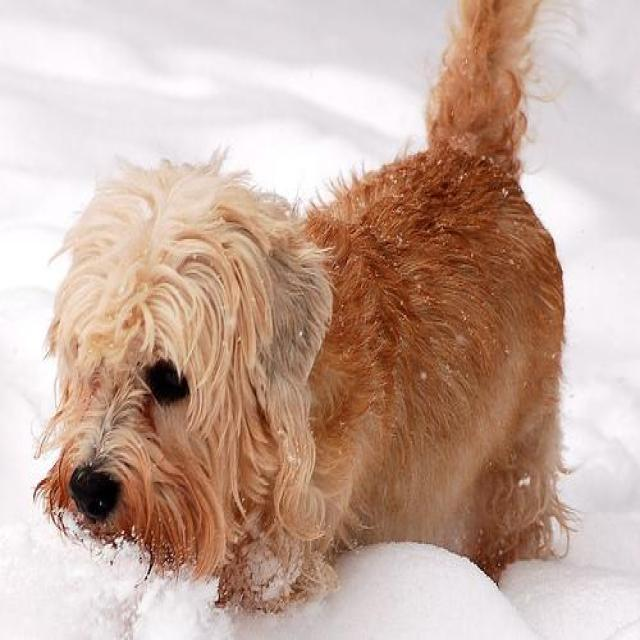dandie_dinmont: (29, 2, 575, 613)
